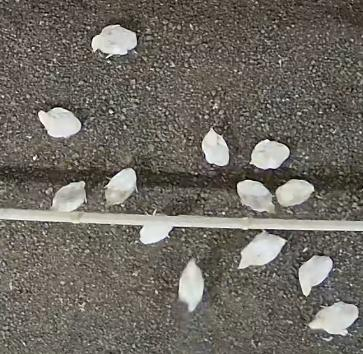chick: (236, 229, 287, 269), (306, 301, 360, 336), (89, 23, 137, 58), (177, 258, 206, 311), (296, 254, 334, 294), (38, 106, 82, 140), (247, 139, 292, 171), (236, 179, 276, 213), (104, 167, 137, 206), (201, 126, 231, 167), (138, 210, 174, 244), (51, 181, 89, 211), (274, 178, 316, 205)
